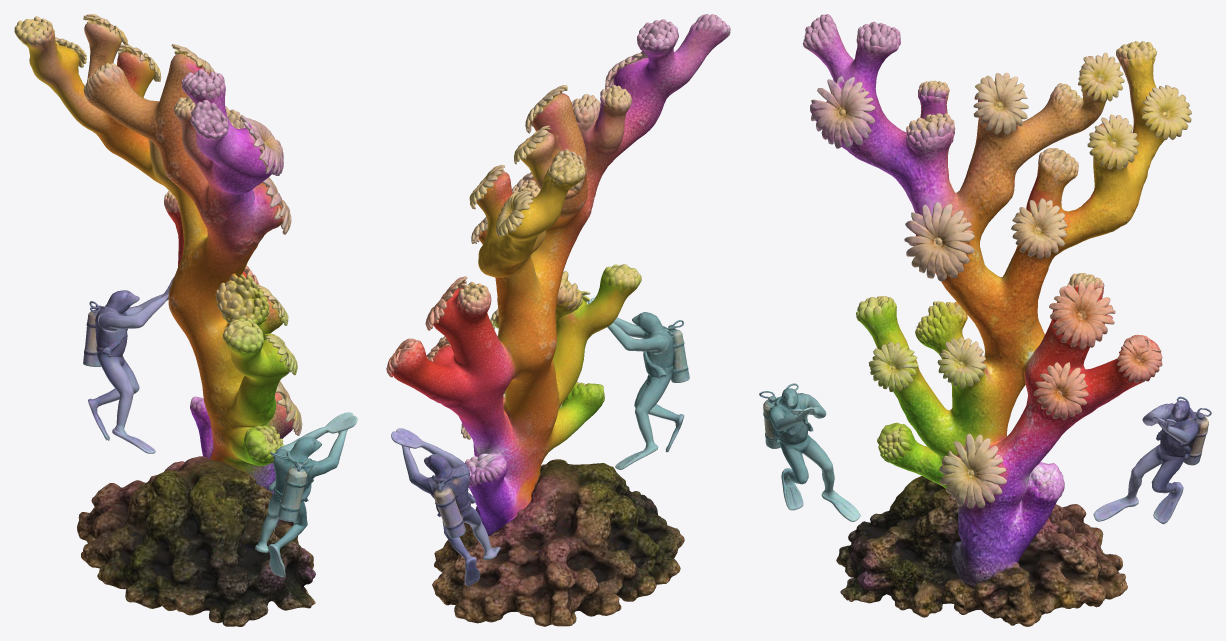
3 renders of one model, left to right at view 1: azimuth 30°, elevation 25°; view 2: azimuth 150°, elevation 25°; view 3: azimuth 270°, elevation 25°, orthographic. The views are drawn at different scales.
Size of the model in its own units: 0.3914 by 0.9779 by 0.7491.
Materials: 1 (1 with a texture image).
